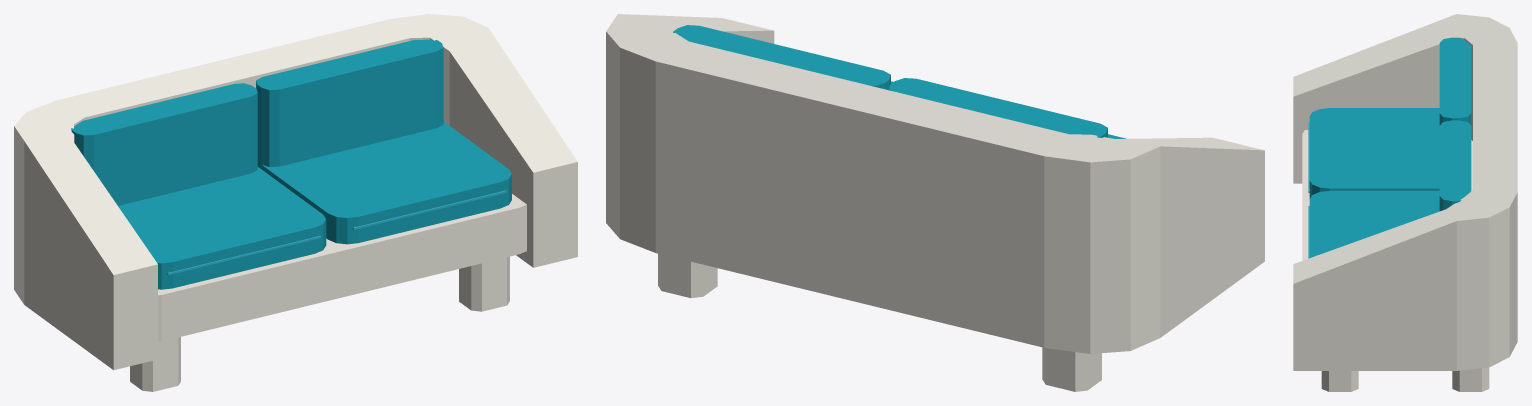
Rendered from seating_pod.glb.
The picture shows the model from 3 angles, left to right: view 1: azimuth 30°, elevation 25°; view 2: azimuth 150°, elevation 25°; view 3: azimuth 270°, elevation 25°; orthographic projection. The views are drawn at different scales.
Parts seen in each view (by area): view 1: Aero_seating_pod; view 2: Aero_seating_pod; view 3: Aero_seating_pod.
Part boxes in pixels (x1,y1,x2,y2): Aero_seating_pod: [14, 14, 577, 391]; Aero_seating_pod: [606, 14, 1264, 391]; Aero_seating_pod: [1293, 14, 1517, 391].
Bounding box in the file's own units: 2.4 × 1.04 × 1.1.
3 materials, 3 textured.
